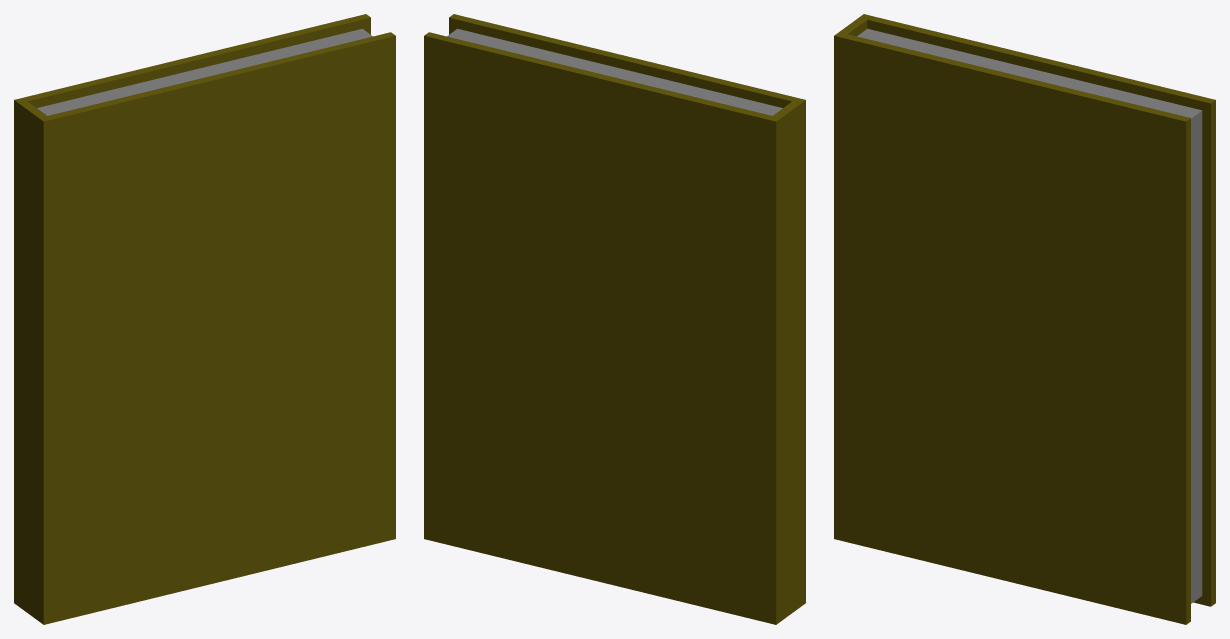
Rendered from Book.obj.
3 renders of one model, left to right at view 1: azimuth 30°, elevation 25°; view 2: azimuth 150°, elevation 25°; view 3: azimuth 330°, elevation 25°, orthographic.
Visible parts, largest first — view 1: Book; view 2: Book; view 3: Book.
Boxes of the visible parts, x1=… form: Book: x1=14, y1=14, x2=395, y2=624; Book: x1=424, y1=14, x2=805, y2=624; Book: x1=834, y1=14, x2=1215, y2=624.
Size of the model in its own units: 41 by 56 by 6.
